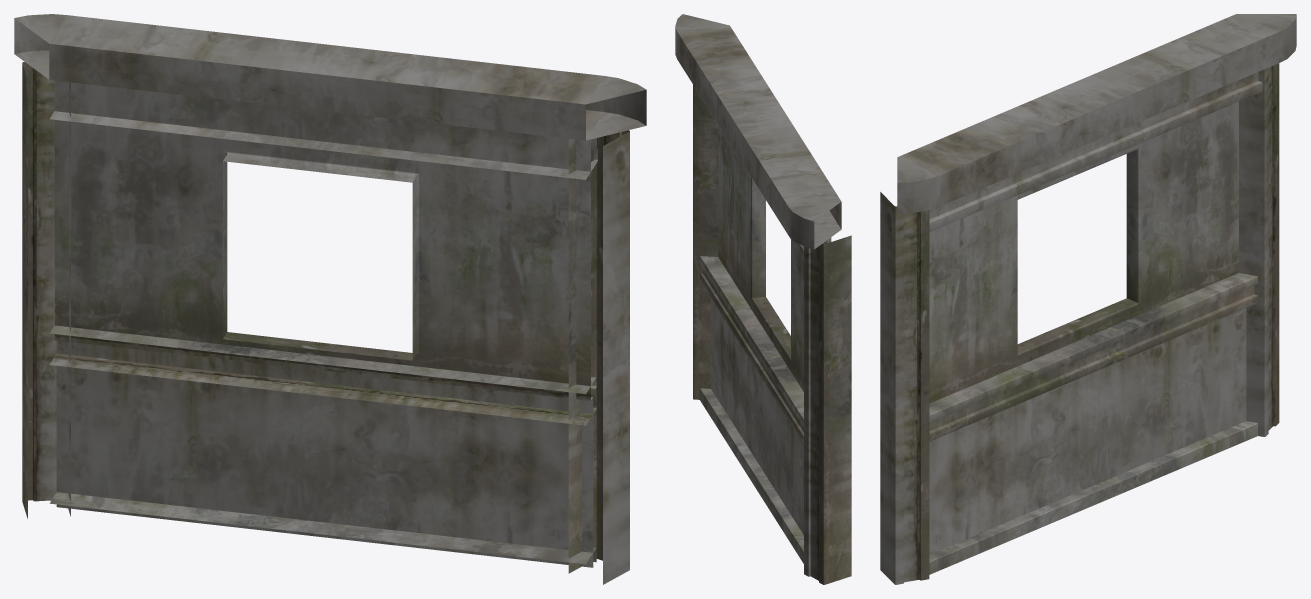
The model's file is Psychiatric_Ward_Guards_Room_Exterior_Wall_45_Degree_Window.glb.
3 views of the same model, side by side, from view 1: azimuth 30°, elevation 25°; view 2: azimuth 150°, elevation 25°; view 3: azimuth 270°, elevation 25° (orthographic). The views are drawn at different scales.
Parts seen in each view (by area): view 1: Psychiatric_Ward_Guards_Room_Exterior_Wall_45_Degree_Window; view 2: Psychiatric_Ward_Guards_Room_Exterior_Wall_45_Degree_Window; view 3: Psychiatric_Ward_Guards_Room_Exterior_Wall_45_Degree_Window.
Part boxes in pixels (x1,y1,x2,y2): Psychiatric_Ward_Guards_Room_Exterior_Wall_45_Degree_Window: [14, 14, 646, 584]; Psychiatric_Ward_Guards_Room_Exterior_Wall_45_Degree_Window: [675, 14, 851, 584]; Psychiatric_Ward_Guards_Room_Exterior_Wall_45_Degree_Window: [880, 14, 1296, 584].
Size of the model in its own units: 2.46 by 2.67 by 2.46.
Materials: 2 (2 with a texture image).
